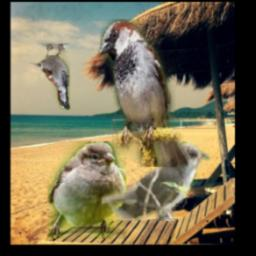Cuckoo: (101, 141, 209, 221)
Sparrow: (99, 19, 188, 167), (47, 142, 126, 240), (30, 44, 70, 110)
